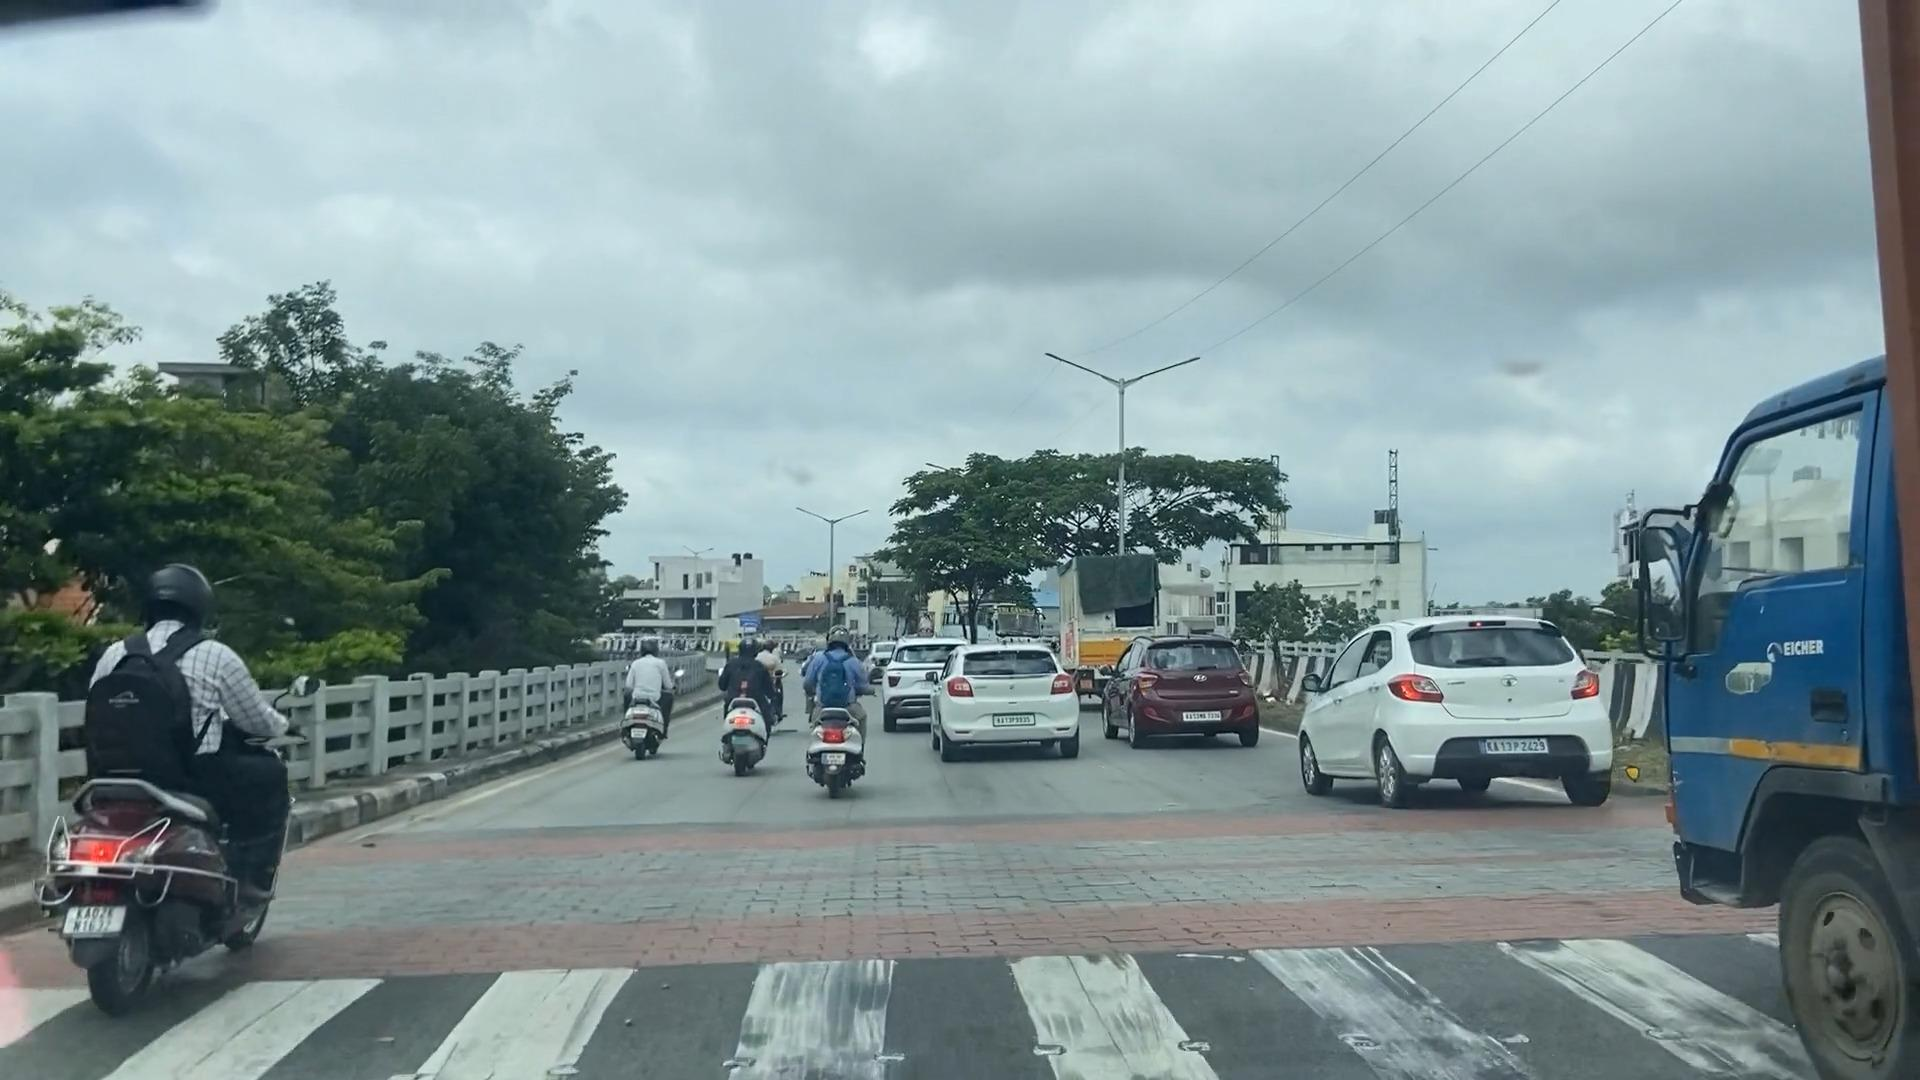LMV: (50, 574, 282, 1000), (1378, 628, 1594, 795), (932, 640, 1075, 771), (1135, 632, 1247, 745), (808, 622, 868, 795), (709, 616, 774, 770), (620, 628, 678, 753)
SpeedBump: (363, 824, 1605, 1080)
